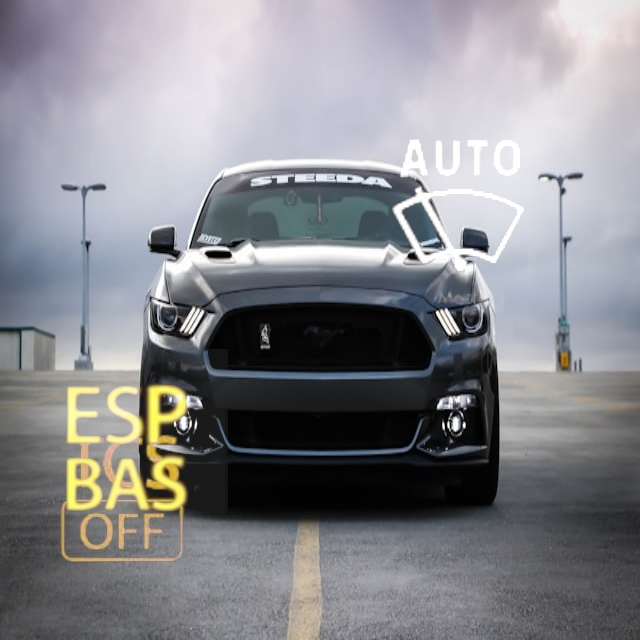symbol: (353, 100, 568, 315), (26, 349, 228, 551), (24, 401, 225, 602)
